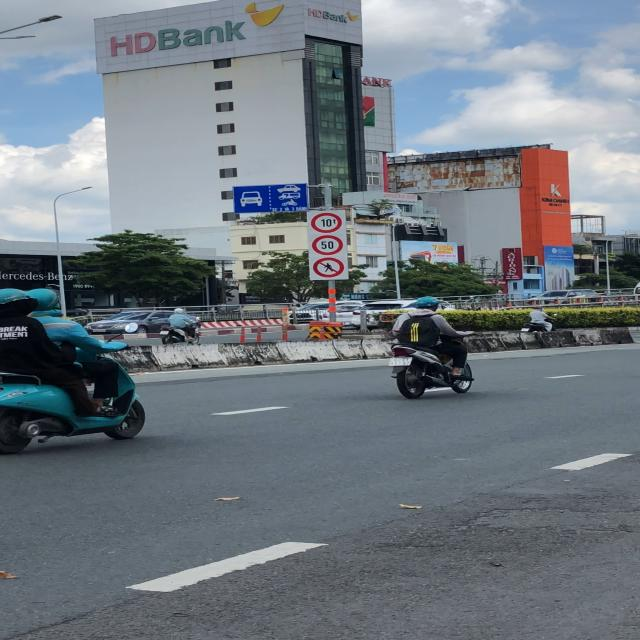Bien bao cam nguoi di bo: (311, 256, 347, 281)
Bien bao toc do toi da cho phep: (312, 233, 343, 256)
